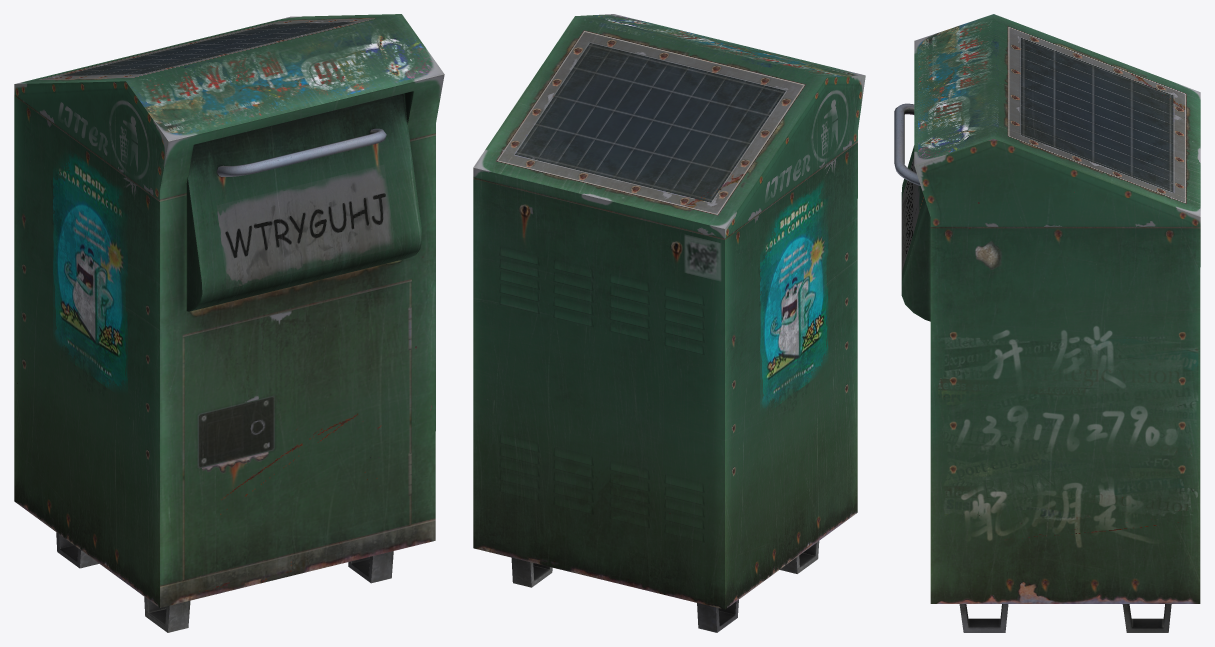
File: article1_04.FBX
3 renders of one model, left to right at view 1: azimuth 30°, elevation 25°; view 2: azimuth 150°, elevation 25°; view 3: azimuth 270°, elevation 25°, orthographic. The views are drawn at different scales.
Visible parts, largest first — view 1: article1_04; view 2: article1_04; view 3: article1_04.
Part boxes in pixels (left/top/right/bottom): article1_04: left=14, top=14, right=444, bottom=632; article1_04: left=473, top=14, right=865, bottom=632; article1_04: left=894, top=14, right=1200, bottom=632.
Bounding box in the file's own units: 53.3 × 101 × 55.23.
